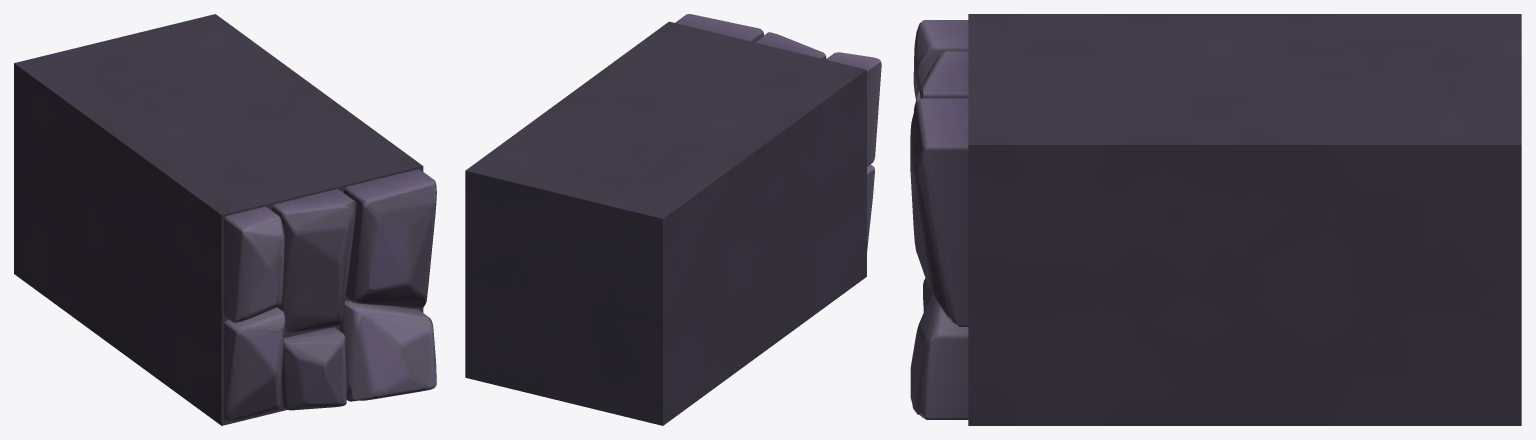
File: EF_T04_StackedBasaltCore_V2.fbx
3 renders of one model, left to right at view 1: azimuth 30°, elevation 25°; view 2: azimuth 150°, elevation 25°; view 3: azimuth 270°, elevation 25°, orthographic. The views are drawn at different scales.
Visible parts, largest first — view 1: Rock; view 2: Rock; view 3: Rock.
Boxes of the visible parts, <box> form: Rock: <box>14,14,436,425</box>; Rock: <box>465,14,881,425</box>; Rock: <box>910,14,1521,425</box>.
Bounding box in the file's own units: 2 × 2 × 3.94.
